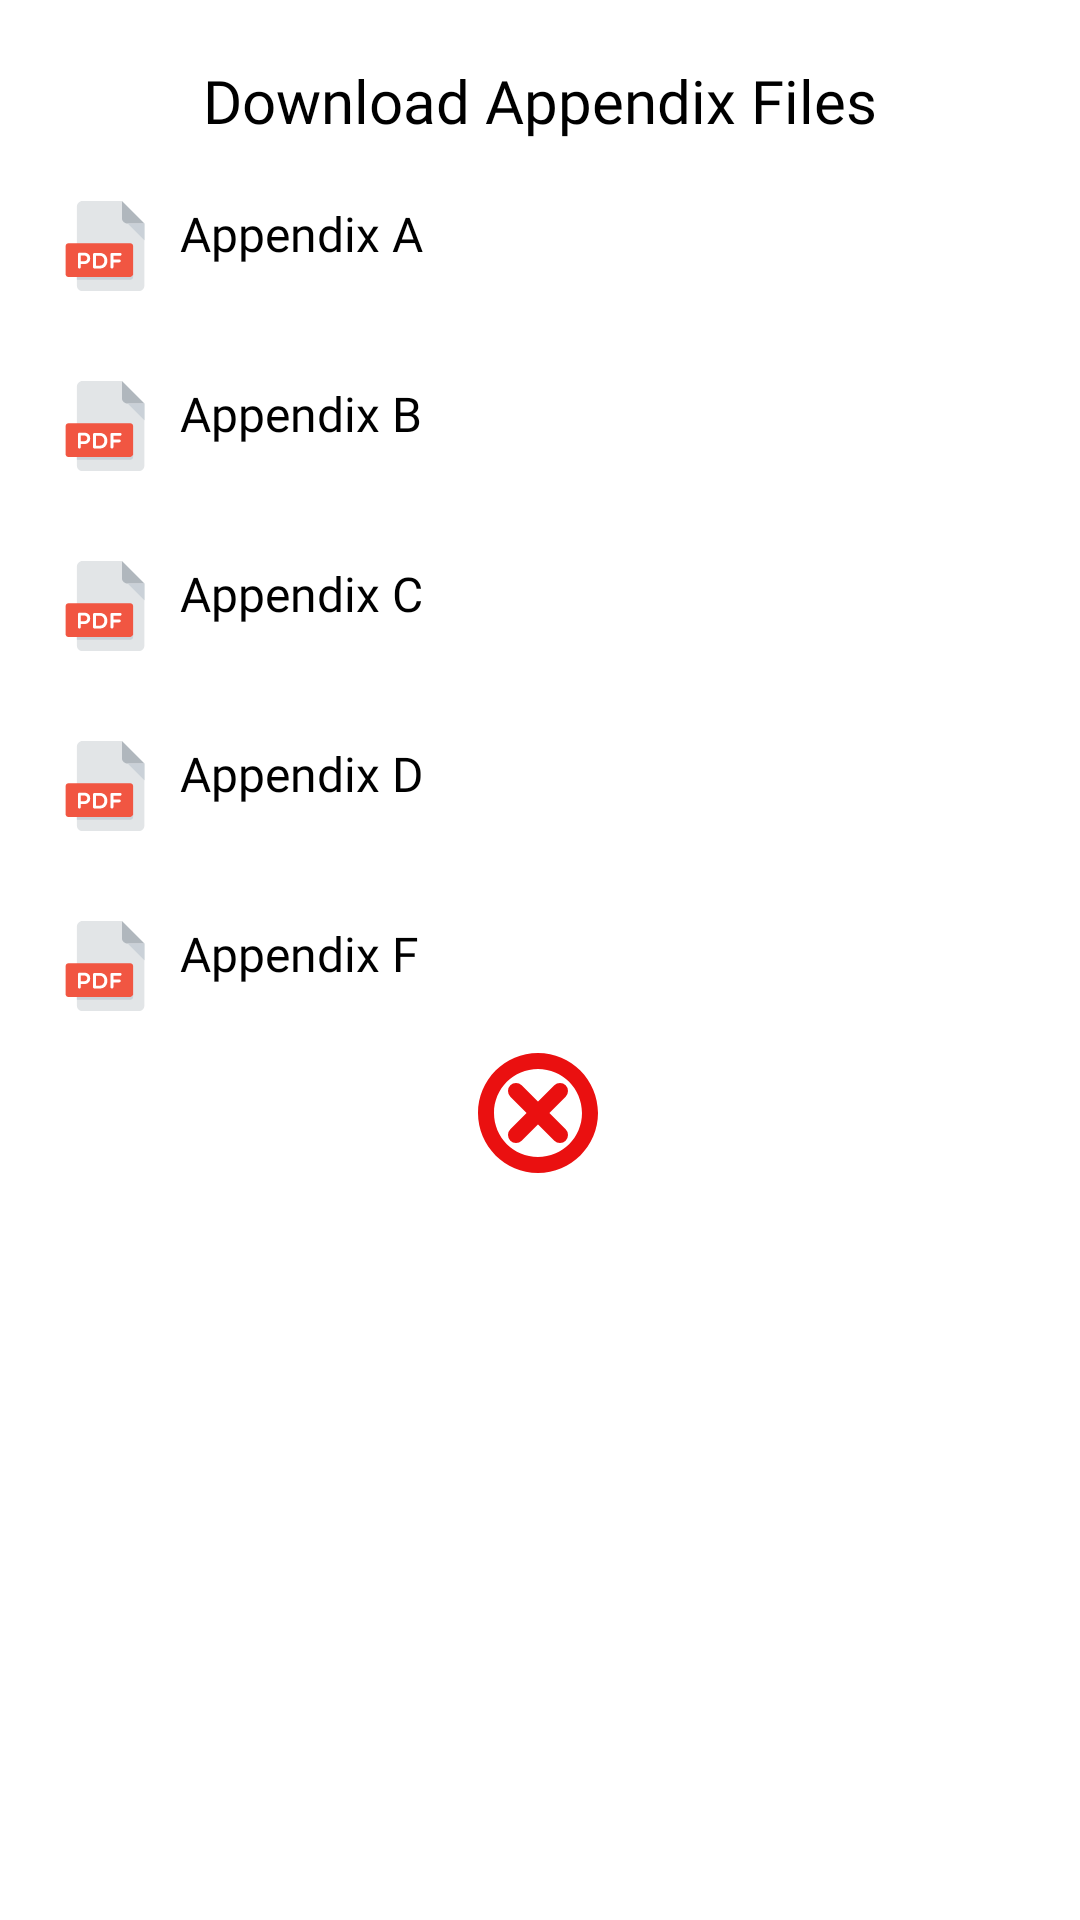

Screen size 1080*1920. Icon name, then its box in pixels as (x1, y1, x2, y2):
cancel: (478, 1053, 598, 1173)
